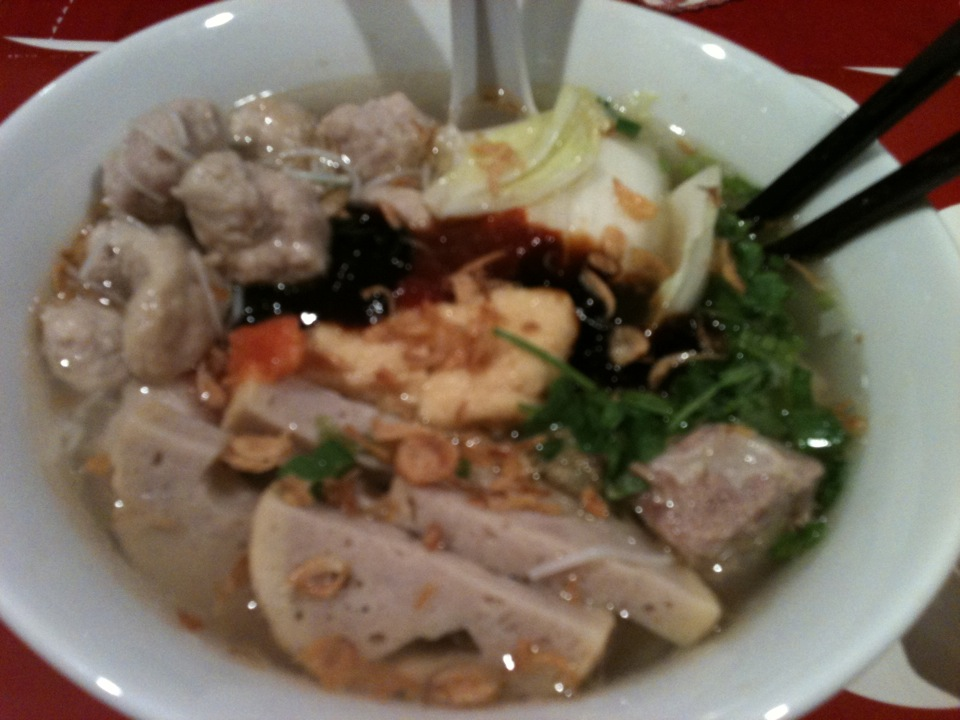chamoc: (233, 464, 603, 696), (103, 393, 326, 632)
pork: (627, 426, 835, 572)
